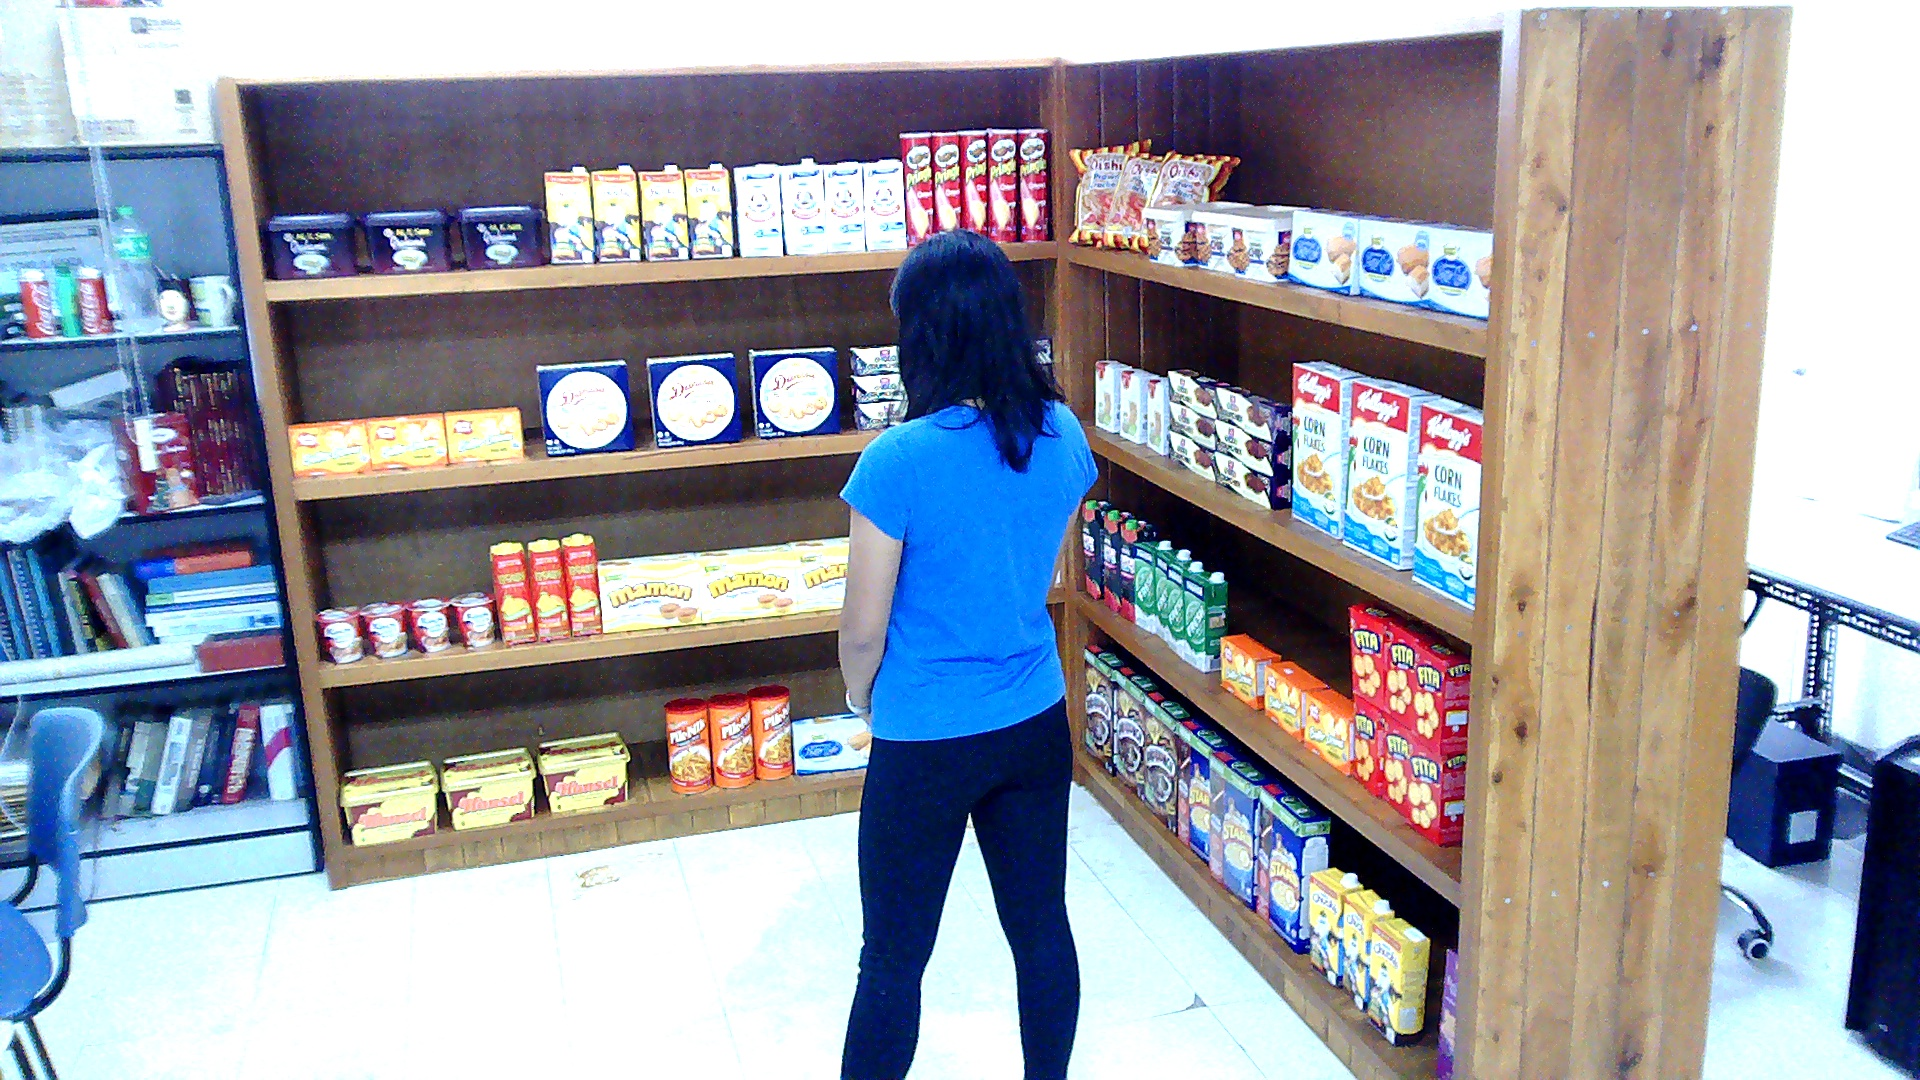Bear brand: (777, 155, 828, 252), (731, 162, 782, 254), (860, 158, 905, 250), (822, 160, 864, 252)
Buttercake: (1359, 216, 1449, 308), (1286, 207, 1379, 293), (1431, 222, 1494, 319), (792, 710, 870, 773)
Butterlicious: (1263, 659, 1329, 740), (285, 416, 369, 477), (366, 409, 447, 470), (1221, 632, 1281, 708), (444, 405, 522, 461), (1305, 688, 1353, 774)
Choco Crunchies: (1215, 421, 1290, 477), (1215, 385, 1290, 441), (1215, 452, 1290, 508), (1167, 369, 1233, 416), (1170, 430, 1215, 482), (1170, 400, 1212, 447), (849, 342, 900, 374), (848, 373, 905, 402), (852, 400, 906, 429)
Chocolate Chips: (1191, 202, 1302, 272), (1143, 200, 1254, 268), (1227, 207, 1311, 281)
Chuckie: (1365, 916, 1431, 1044), (1341, 889, 1395, 1011), (1308, 866, 1362, 985), (543, 164, 594, 263), (635, 161, 686, 260), (591, 161, 639, 260), (684, 162, 732, 256)
Danisa: (533, 357, 632, 456), (645, 351, 741, 445), (747, 344, 837, 436)
Fita: (1410, 636, 1470, 751), (1407, 731, 1467, 846), (1350, 598, 1404, 711), (1382, 619, 1439, 727), (1350, 695, 1383, 796), (1383, 713, 1410, 816)
Fresh Milk: (1182, 569, 1227, 672), (1167, 560, 1206, 657), (1133, 538, 1172, 632), (1155, 549, 1191, 641)
Grahams: (264, 209, 357, 277), (360, 207, 450, 272), (455, 204, 542, 267)
Hansel: (339, 758, 438, 846), (438, 747, 534, 828), (536, 729, 629, 810)
Head: (878, 227, 1031, 411)
Honey Stars: (1257, 780, 1329, 953), (1209, 744, 1281, 911), (1176, 715, 1233, 866)
Kellogg Corn Flakes: (1344, 375, 1440, 566), (1412, 396, 1481, 610), (1290, 360, 1371, 538)
Kimchi Noodles: (311, 604, 362, 663), (357, 601, 408, 657), (404, 594, 449, 650), (450, 592, 495, 648)
Koko Krunch: (1143, 689, 1191, 837), (1116, 666, 1161, 803), (1082, 641, 1127, 776)
Locally Mango: (488, 540, 533, 646), (524, 537, 569, 638), (561, 533, 600, 634)
Mamon: (596, 551, 701, 632), (693, 542, 795, 621), (786, 536, 846, 610)
Oishi Prawn: (1131, 146, 1239, 249), (1068, 137, 1149, 243), (1094, 148, 1163, 247)
Pik-nik: (663, 695, 711, 794), (744, 684, 792, 778), (708, 690, 753, 787)
Pringles: (900, 130, 933, 245), (1016, 125, 1049, 240), (987, 125, 1017, 240), (957, 128, 987, 236), (930, 130, 960, 231)
Super Fruits: (1119, 519, 1155, 620), (1080, 497, 1113, 600), (1104, 508, 1134, 611)
Wafer: (1431, 944, 1458, 1077)
iHop: (1119, 367, 1158, 441), (1095, 358, 1131, 432), (1146, 375, 1167, 454)
